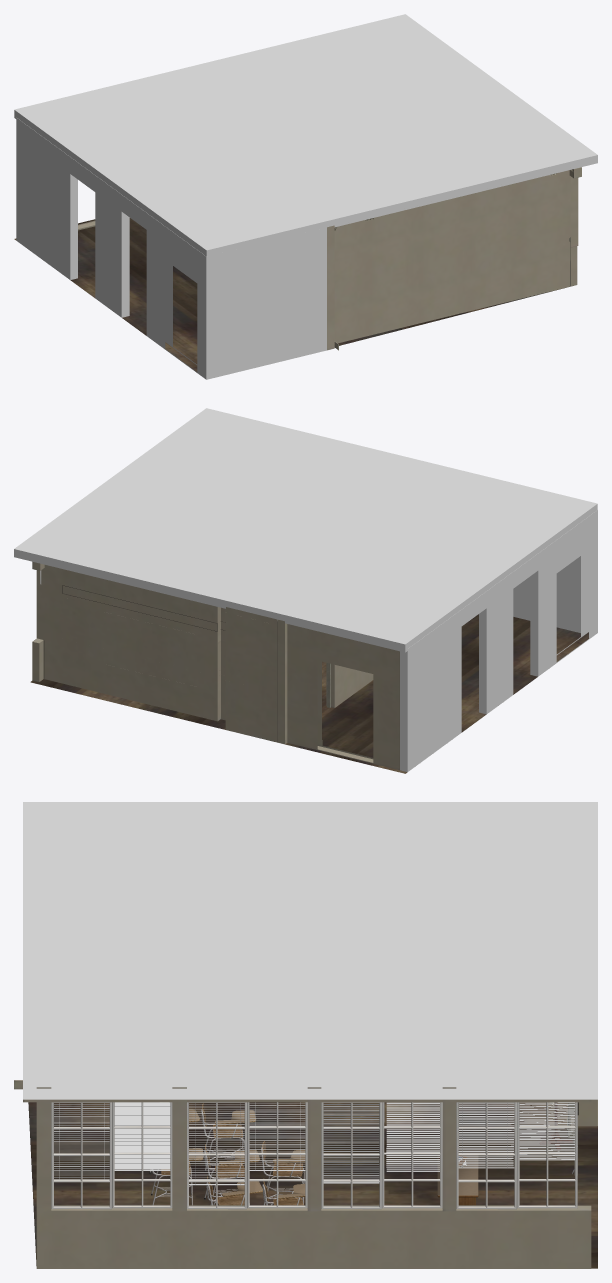
The model's file is big_school_cc.glb.
3 views of the same model, one above another, from view 1: azimuth 30°, elevation 25°; view 2: azimuth 150°, elevation 25°; view 3: azimuth 270°, elevation 25° (orthographic). The views are drawn at different scales.
Parts seen in each view (by area): view 1: ceiling__ceiling, wall.010__wall.010, wall.009__wall.009, wall.005__wall.005, sol__sol, wall__wall, wall.004__wall.004; view 2: ceiling__ceiling, wall.008__wall.008, wall.009__wall.009, wall.006__wall.006, sol__sol, wall.005__wall.005, wall__wall, wall.007__wall.007; view 3: ceiling__ceiling, wall.007__wall.007, sol__sol, Cube.017__Cube.017, Cube.005__Cube.005, Cube.008__Cube.008, Cube.002__Cube.002, Cube.021__Cube.021, Cube.020__Cube.020, Cube.011__Cube.011, Cube.014__Cube.014, wall.012__wall.012 (+13 smaller).
Part boxes in pixels (x1,y1,x2,y2): ceiling__ceiling: (14,14,597,256); wall.010__wall.010: (334,170,577,343); wall.009__wall.009: (16,117,214,379); wall.005__wall.005: (214,227,326,377); sol__sol: (14,218,564,371); wall__wall: (327,225,334,350); wall.004__wall.004: (570,176,578,247); ceiling__ceiling: (14,408,597,652); wall.008__wall.008: (36,565,277,742); wall.009__wall.009: (400,510,597,771); wall.006__wall.006: (287,624,399,770); sol__sol: (30,614,588,773); wall.005__wall.005: (513,550,588,633); wall__wall: (277,619,373,744); wall.007__wall.007: (32,638,43,681); ceiling__ceiling: (23,802,597,1099); wall.007__wall.007: (36,1205,591,1268); sol__sol: (28,1102,597,1268); Cube.017__Cube.017: (114,1102,170,1169); Cube.005__Cube.005: (386,1102,439,1169); Cube.008__Cube.008: (323,1104,379,1179); Cube.002__Cube.002: (458,1103,514,1166); Cube.021__Cube.021: (519,1102,574,1159); Cube.020__Cube.020: (54,1104,109,1177); Cube.011__Cube.011: (249,1103,305,1168); Cube.014__Cube.014: (189,1104,244,1179); wall.012__wall.012: (23,1099,591,1102).
Bounding box in the file's own units: 9.83 × 3.11 × 8.5.
Materials: 70 (51 with a texture image).
